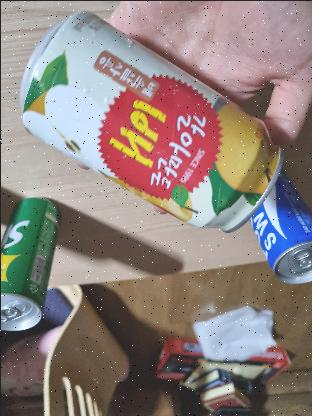Can: (16, 35, 276, 228)
